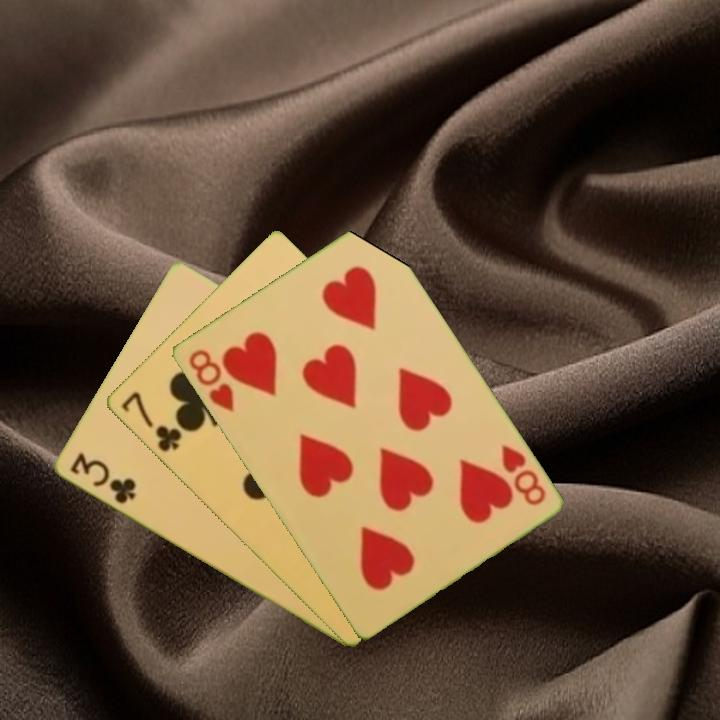3c: (66, 449, 138, 507)
7c: (117, 388, 184, 455)
8h: (184, 345, 237, 416), (496, 441, 549, 509)
